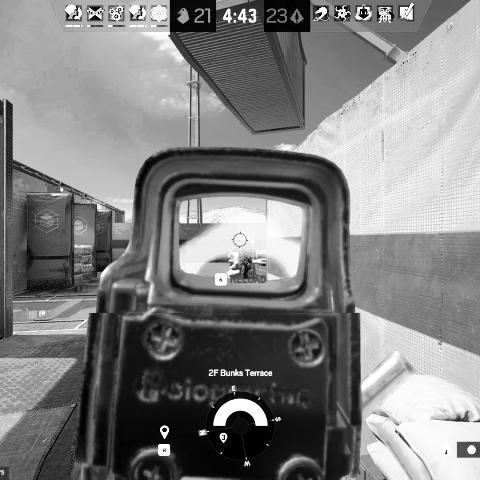Character: (236, 234, 254, 280)
Head: (238, 234, 248, 245)
